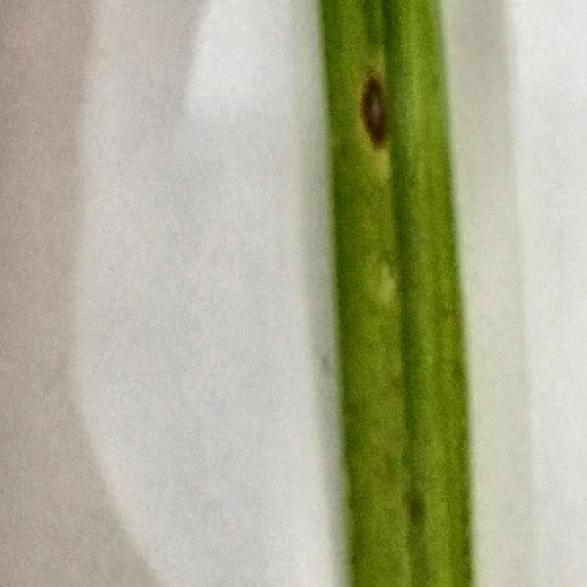Leaf_smut: (346, 31, 407, 158)
